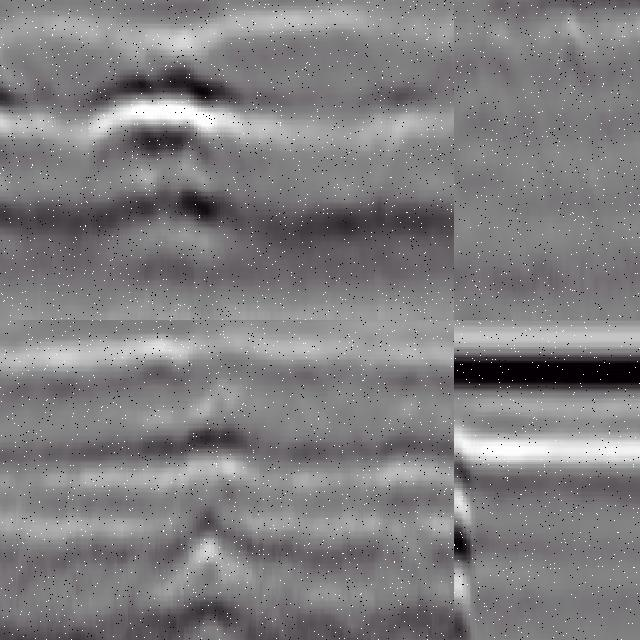crack: (188, 364, 238, 640), (455, 415, 470, 640)
loose: (1, 57, 254, 273)
